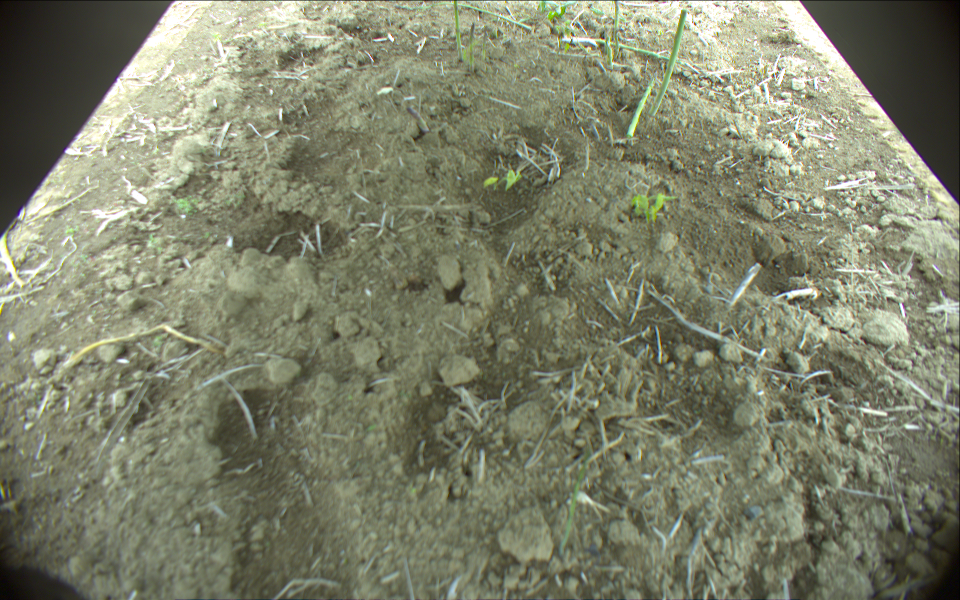aspa: (652, 8, 686, 114), (563, 34, 669, 63), (628, 65, 660, 139), (454, 1, 534, 30), (451, 1, 463, 60), (613, 1, 623, 57), (468, 19, 475, 71), (481, 24, 488, 58), (604, 34, 612, 63)
